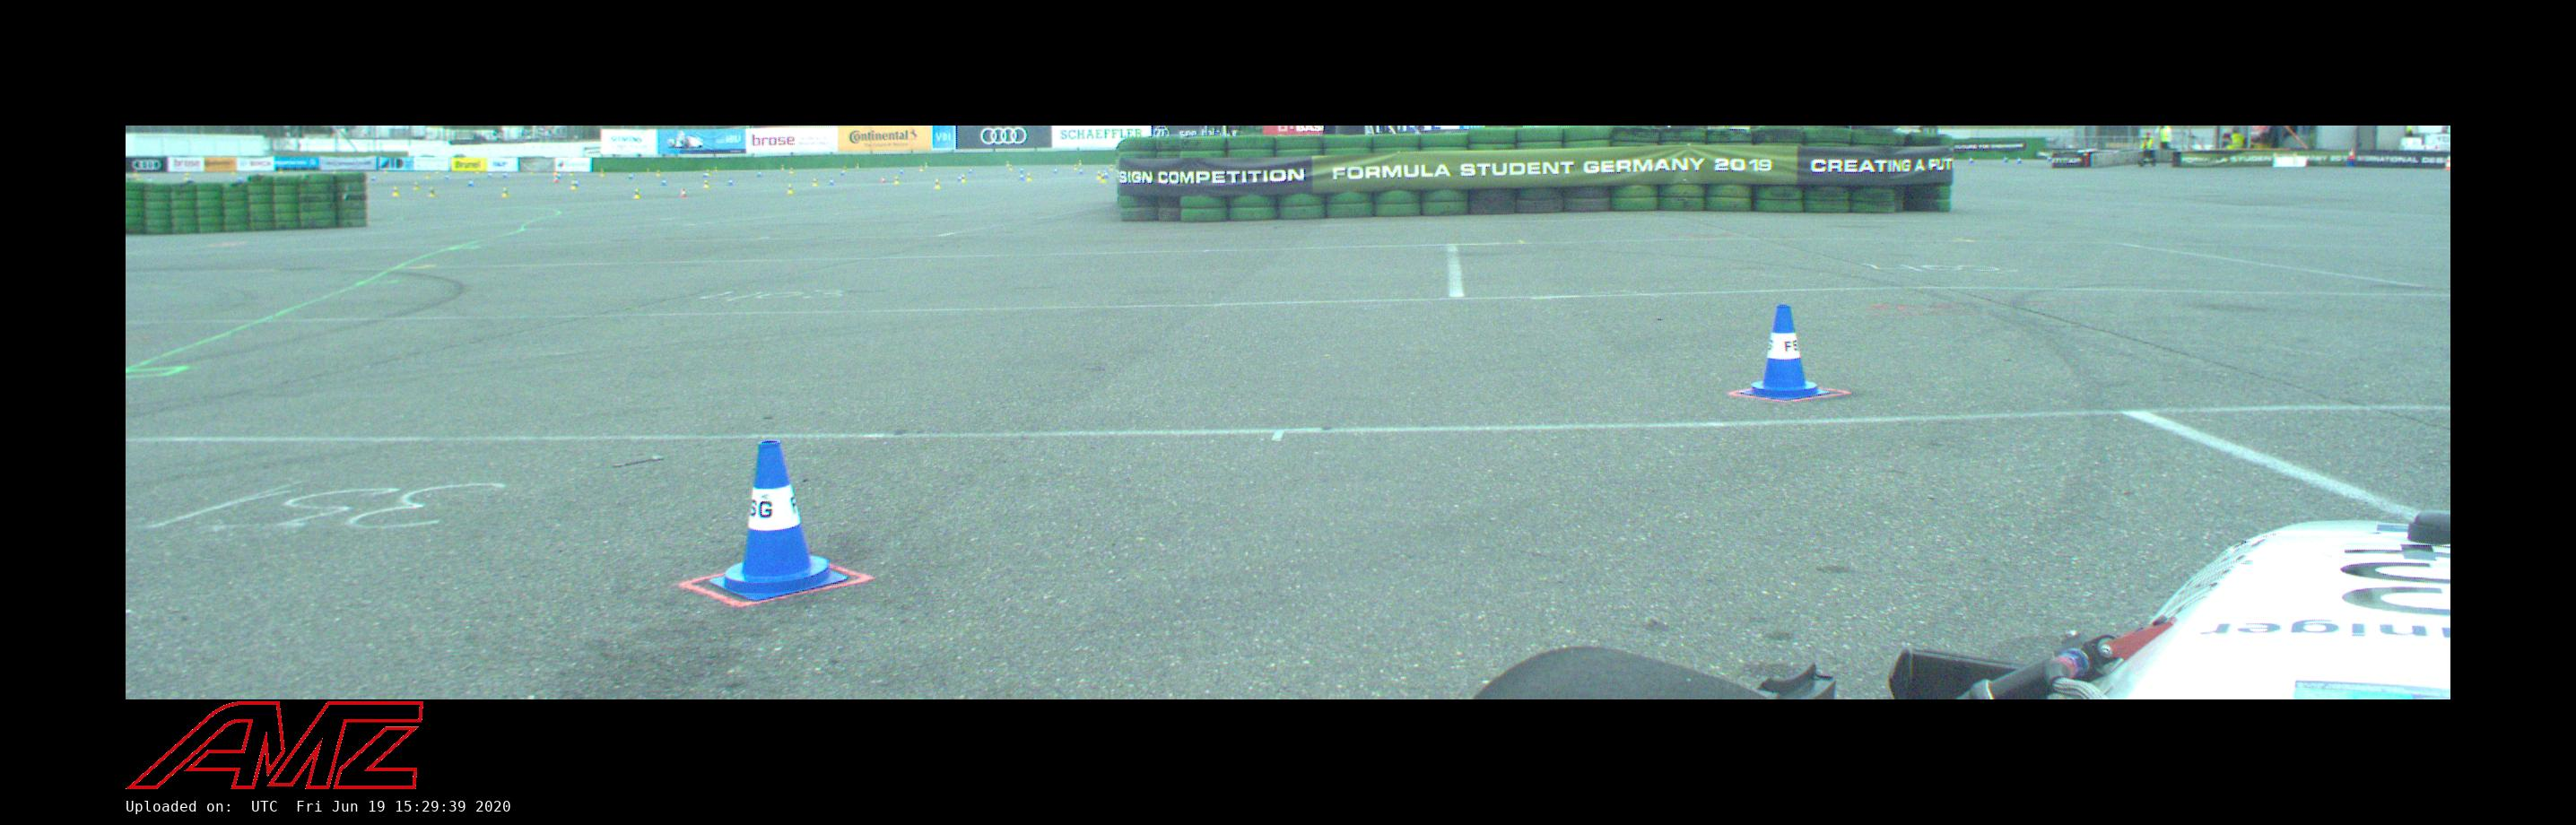blue_cone: (708, 439, 846, 601), (1740, 304, 1828, 399), (1968, 154, 1975, 164), (2016, 156, 2022, 164), (2003, 154, 2009, 163), (467, 179, 473, 186), (660, 179, 667, 186), (830, 177, 835, 186), (958, 174, 963, 182), (728, 179, 733, 186), (573, 179, 578, 186), (757, 171, 762, 177), (371, 174, 376, 181), (1079, 169, 1084, 174), (629, 173, 632, 179), (1020, 174, 1023, 181), (503, 173, 506, 179), (1055, 168, 1058, 174), (1020, 166, 1023, 173), (969, 168, 973, 174), (841, 171, 844, 176), (445, 174, 449, 179), (900, 169, 904, 174)
orange_cone: (2445, 159, 2451, 171), (680, 189, 687, 197), (554, 176, 559, 182), (882, 176, 885, 182)
yellow_cone: (501, 187, 509, 197), (933, 179, 941, 189), (391, 187, 399, 196), (787, 184, 793, 194), (632, 189, 639, 199), (429, 187, 435, 196), (570, 181, 577, 189), (961, 174, 966, 182), (813, 177, 818, 186), (894, 176, 899, 184), (703, 181, 708, 189), (1027, 173, 1032, 181), (1101, 174, 1106, 182), (1096, 171, 1101, 179), (655, 169, 660, 176), (425, 173, 430, 179), (789, 168, 793, 174), (1109, 164, 1114, 171), (414, 182, 417, 191), (920, 164, 923, 173), (554, 171, 559, 176), (706, 169, 710, 176), (1079, 159, 1083, 166), (601, 169, 605, 176), (1074, 164, 1078, 171), (844, 166, 848, 173), (1010, 164, 1012, 171), (570, 171, 572, 176)
